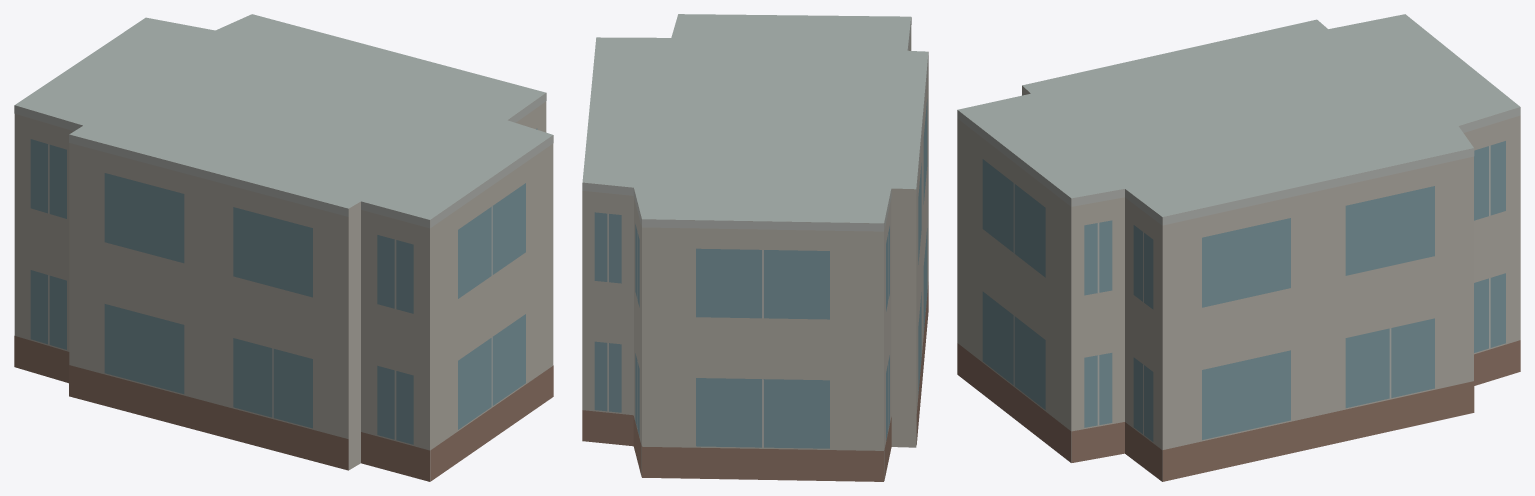
Rendered from survey-upis-32741313.glb.
The picture shows the model from 3 angles, left to right: view 1: azimuth 30°, elevation 25°; view 2: azimuth 150°, elevation 25°; view 3: azimuth 270°, elevation 25°; orthographic projection. The views are drawn at different scales.
Parts seen in each view (by area): view 1: survey-upis-32741313.tmp; view 2: survey-upis-32741313.tmp; view 3: survey-upis-32741313.tmp.
Boxes of the visible parts, bbox=[...] form: survey-upis-32741313.tmp: bbox=[14, 14, 553, 481]; survey-upis-32741313.tmp: bbox=[582, 14, 928, 481]; survey-upis-32741313.tmp: bbox=[957, 14, 1520, 481].
Bounding box in the file's own units: 12.52 × 7.6 × 14.66.
